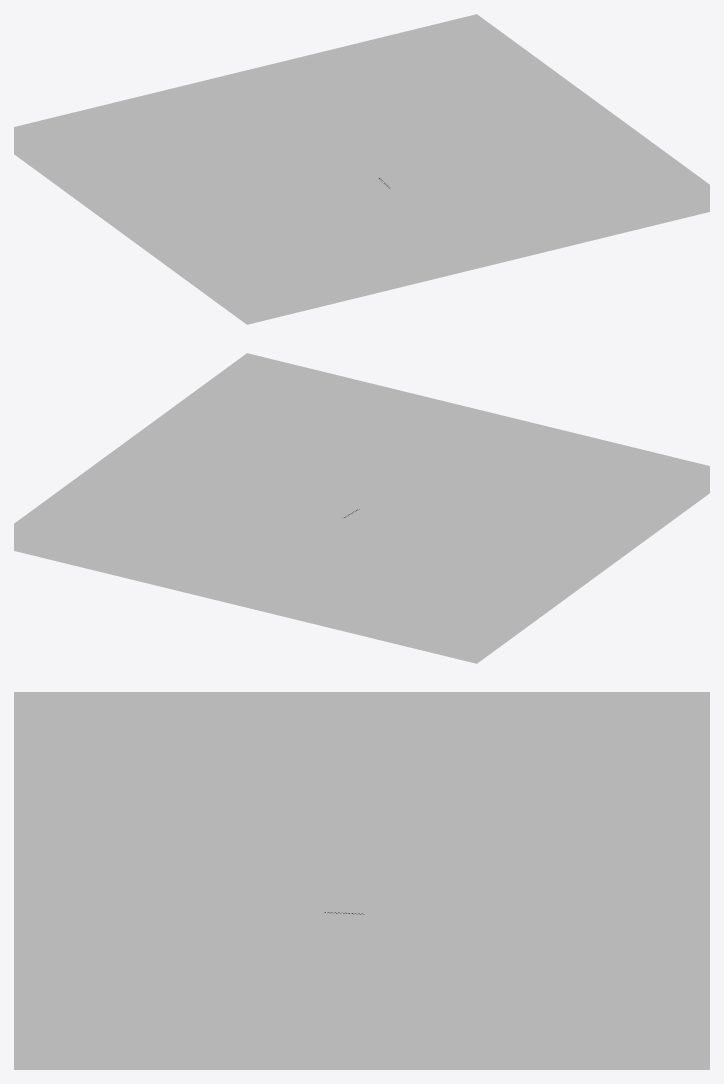
Rendered from 2022_march_pro_ccw.dae.
3 renders of one model, top to bottom at view 1: azimuth 30°, elevation 25°; view 2: azimuth 150°, elevation 25°; view 3: azimuth 270°, elevation 25°, orthographic. The views are drawn at different scales.
Parts seen in each view (by area): view 1: field, wall, road, il, ol, cl; view 2: field, wall, road, il, ol, cl; view 3: field, wall, road, ol, il, cl.
Boxes of the visible parts, <box> form: field: <box>42,41,681,297</box>; wall: <box>14,14,709,324</box>; road: <box>147,72,560,281</box>; il: <box>174,84,533,270</box>; ol: <box>144,71,562,282</box>; cl: <box>160,78,547,276</box>; field: <box>42,380,681,636</box>; wall: <box>14,353,709,663</box>; road: <box>91,433,609,611</box>; il: <box>118,445,582,601</box>; ol: <box>88,432,612,612</box>; cl: <box>104,439,596,607</box>; field: <box>14,732,709,1029</box>; wall: <box>14,692,709,1069</box>; road: <box>51,748,672,1029</box>; ol: <box>48,747,675,1029</box>; il: <box>92,765,631,1029</box>; cl: <box>71,757,652,1029</box>.
Size of the model in its own units: 17.83 by 15.55 by 1.
